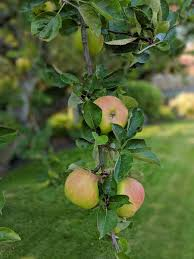apple: (88, 93, 130, 135), (111, 173, 146, 217), (65, 169, 100, 208)
